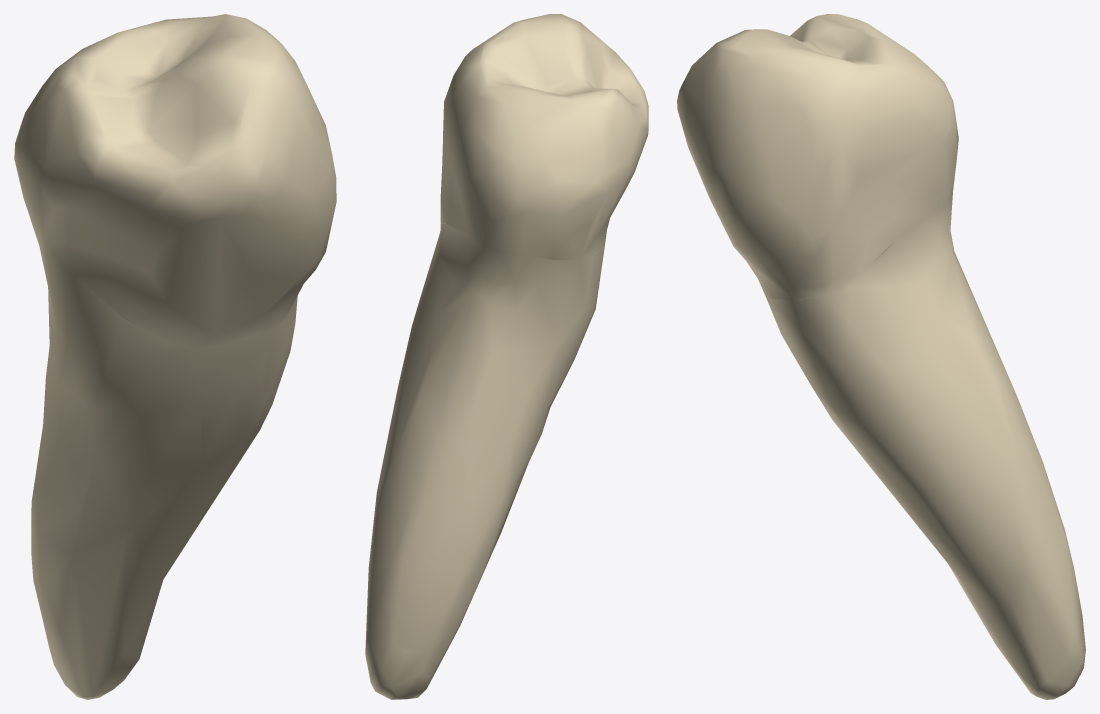
File: esqueleto-lower-second-premolar-l.glb
The picture shows the model from 3 angles, left to right: view 1: azimuth 30°, elevation 25°; view 2: azimuth 150°, elevation 25°; view 3: azimuth 270°, elevation 25°; orthographic projection. The views are drawn at different scales.
Parts seen in each view (by area): view 1: Lower second premolar.l; view 2: Lower second premolar.l; view 3: Lower second premolar.l.
Part boxes in pixels (bbox=[...]): Lower second premolar.l: bbox=[14, 14, 336, 699]; Lower second premolar.l: bbox=[365, 14, 648, 699]; Lower second premolar.l: bbox=[677, 14, 1085, 699].
Size of the model in its own units: 0.00794 by 0.0228 by 0.013.
